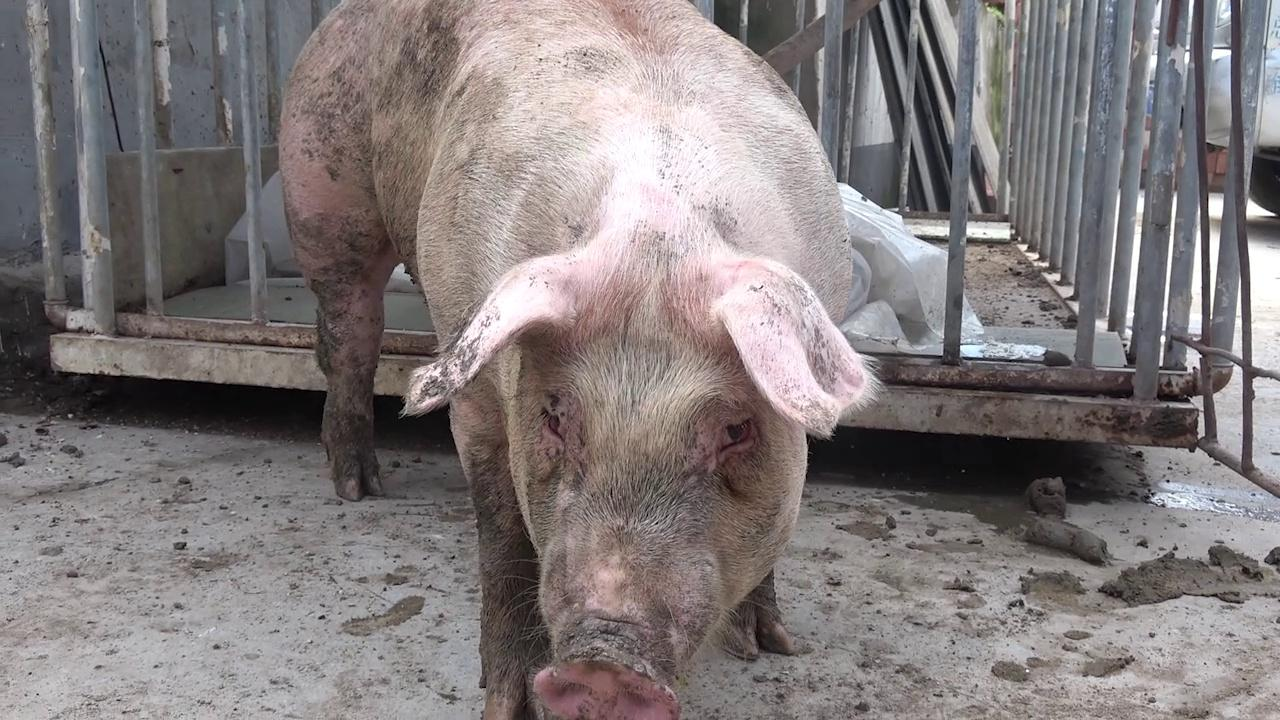Face: (397, 233, 891, 720)
